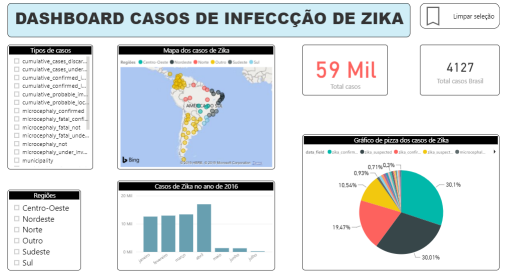

The page's visual inventory and layout, read from the dashboard file:
{"tool":"powerbi","page":{"name":"Página 1","canvas":[1280,720],"ordinal":0},"visuals":[{"type":"slicer","title":"Tipos de casos","fields":{"Values":["zika.data_field"]},"box":[11.5,118.6,218,317.5],"z":0},{"type":"textbox","box":[11.5,12.7,1026.3,86.7],"z":9},{"type":"card","fields":{"Values":["zika.Total casos Brasil"]},"box":[1062,118.6,202.7,128.8],"z":1000},{"type":"slicer","title":"Regiões","fields":{"Values":["zika.region (grupos)"]},"box":[11.5,487,187.4,205.3],"z":2000},{"type":"clusteredColumnChart","title":"Casos de Zika no ano de 2016","fields":{"Category":["zika.report_date.Variation.Hierarquia de datas.Ano","zika.report_date.Variation.Hierarquia de datas.Trimestre","zika.report_date.Variation.Hierarquia de datas.Mês","zika.report_date.Variation.Hierarquia de datas.Dia"],"Y":["CountNonNull(zika.data_field)"]},"box":[290.7,464.1,401.6,228.2],"z":3000},{"type":"pieChart","title":"Gráfico de pizza dos casos de Zika","fields":{"Category":["zika.data_field"],"Y":["CountNonNull(zika.Regiões)"]},"box":[762.4,346.8,502.3,345.5],"z":4000},{"type":"card","title":"Total de casos em 2016","fields":{"Values":["zika.Total casos"]},"box":[762.4,118.6,218,128.8],"z":5000},{"type":"map","title":"Mapa dos casos de Zika","fields":{"Series":["zika.region (grupos)"],"Category":["zika.region"]},"box":[290.7,118.6,401.6,317.5],"z":6000},{"type":"actionButton","box":[1062,12.7,202.7,65],"z":7000}]}

Visuals, with their boxes in screenshot pixels (x1, y1, x2, y2), scaled from the page's 1280x720 canvas onto the 508x278 screenshot:
"Tipos de casos" slicer: {"left": 5, "top": 46, "right": 91, "bottom": 168}
textbox: {"left": 5, "top": 5, "right": 412, "bottom": 38}
card - zika.Total casos Brasil: {"left": 421, "top": 46, "right": 502, "bottom": 96}
"Regiões" slicer: {"left": 5, "top": 188, "right": 79, "bottom": 267}
"Casos de Zika no ano de 2016" clusteredColumnChart: {"left": 115, "top": 179, "right": 275, "bottom": 267}
"Gráfico de pizza dos casos de Zika" pieChart: {"left": 303, "top": 134, "right": 502, "bottom": 267}
"Total de casos em 2016" card: {"left": 303, "top": 46, "right": 389, "bottom": 96}
"Mapa dos casos de Zika" map: {"left": 115, "top": 46, "right": 275, "bottom": 168}
actionButton: {"left": 421, "top": 5, "right": 502, "bottom": 30}
